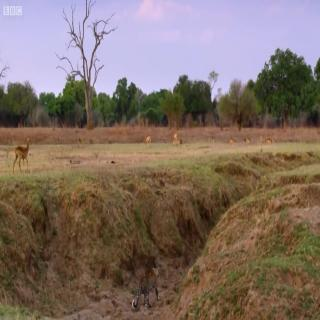Leopard: (133, 265, 161, 308)
